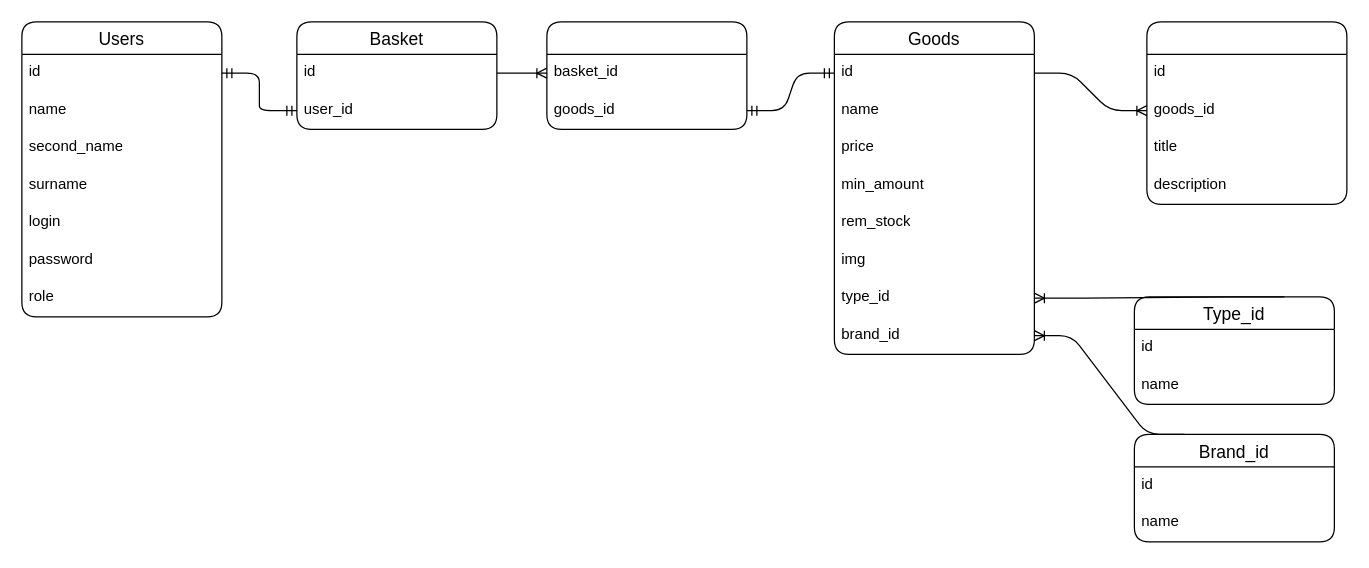
Image size: 1369x568. Some labels were removed from this diagram. Here are the shapes that lost their labels. From the top down, the box of each, then its label:
(546, 21, 747, 129): Basket_Goods
(1146, 21, 1347, 204): Goods_Info
